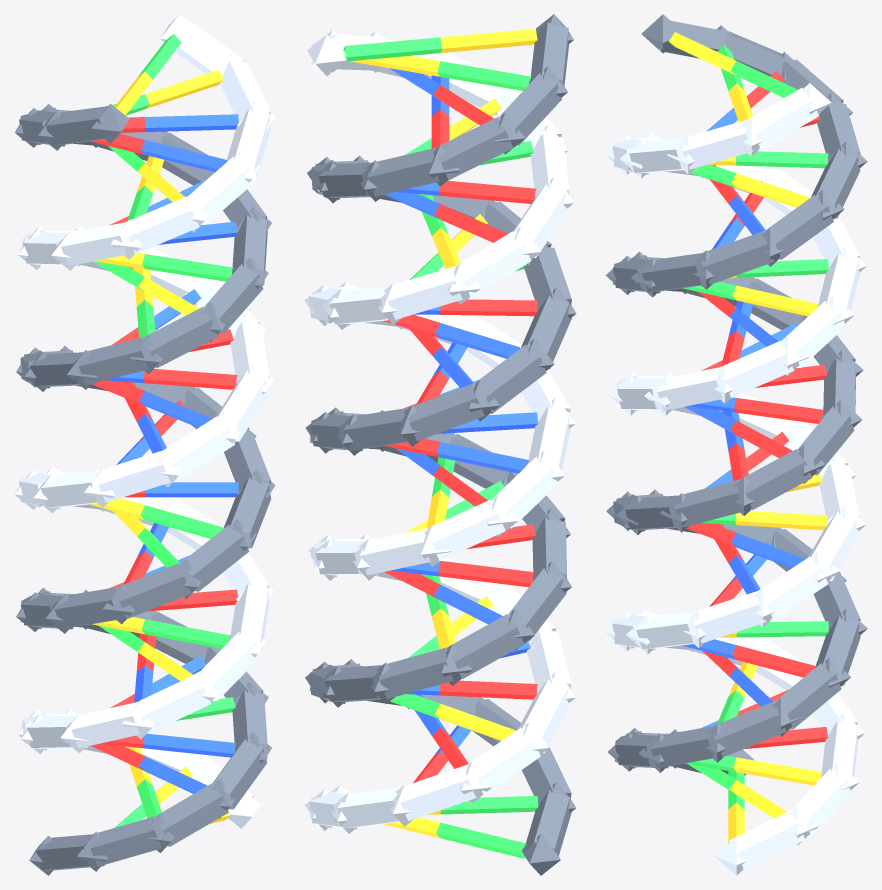
File: DNA_Helix_Neon.fbx
The picture shows the model from 3 angles, left to right: view 1: azimuth 30°, elevation 25°; view 2: azimuth 150°, elevation 25°; view 3: azimuth 270°, elevation 25°; orthographic projection. The views are drawn at different scales.
Visible parts, largest first — view 1: DNA_Helix_Neon; view 2: DNA_Helix_Neon; view 3: DNA_Helix_Neon.
Boxes of the visible parts, x1,y1,x2,y2 form: DNA_Helix_Neon: (14,14,275,875); DNA_Helix_Neon: (304,14,576,875); DNA_Helix_Neon: (605,14,867,875).
Bounding box in the file's own units: 1.01 × 3.3 × 1.01.
